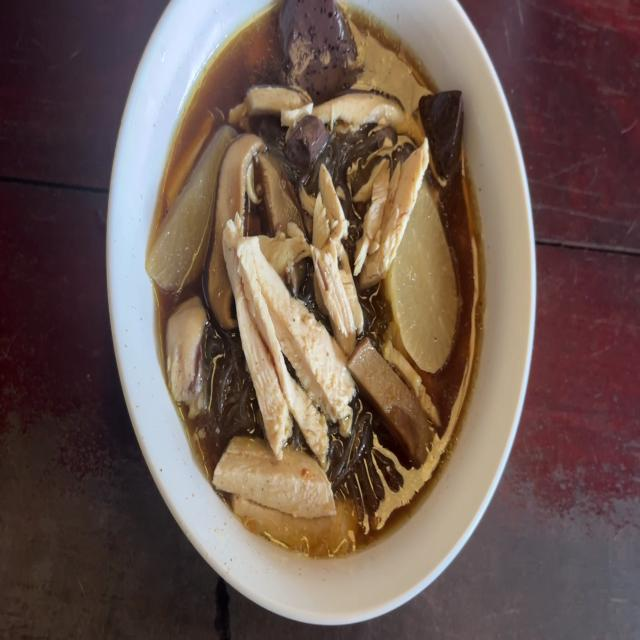noodle: (280, 0, 356, 87), (413, 79, 466, 180), (283, 105, 333, 176)
